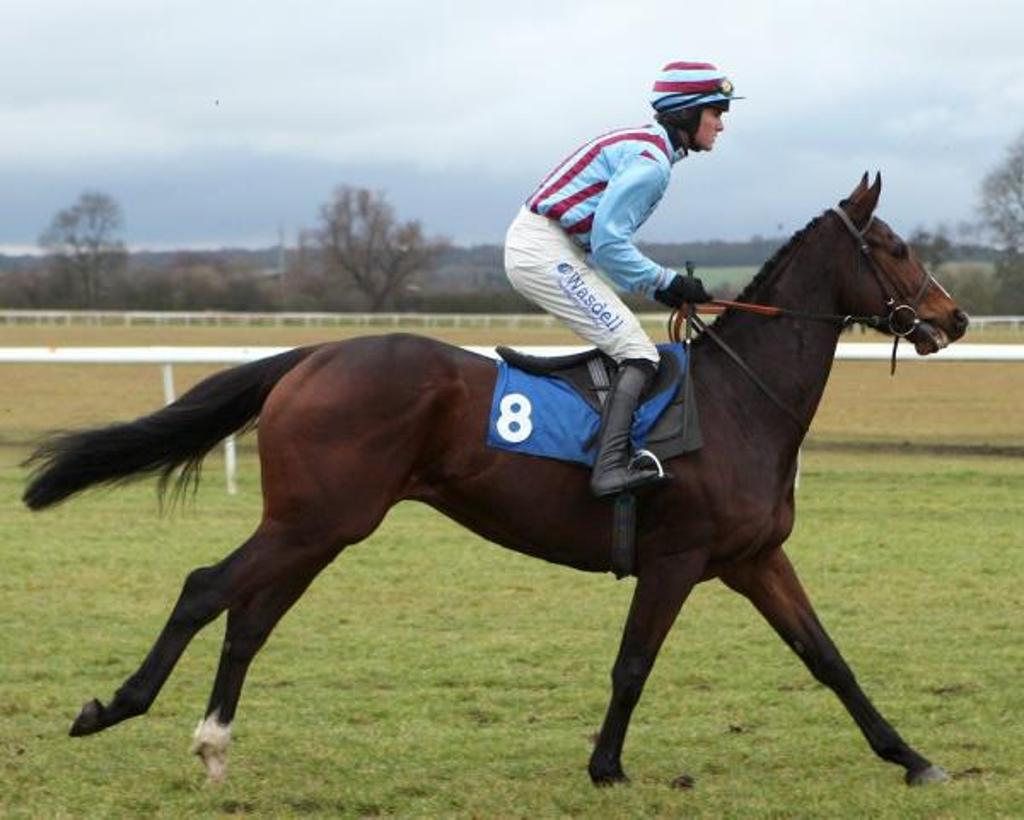face: (698, 102, 725, 151)
